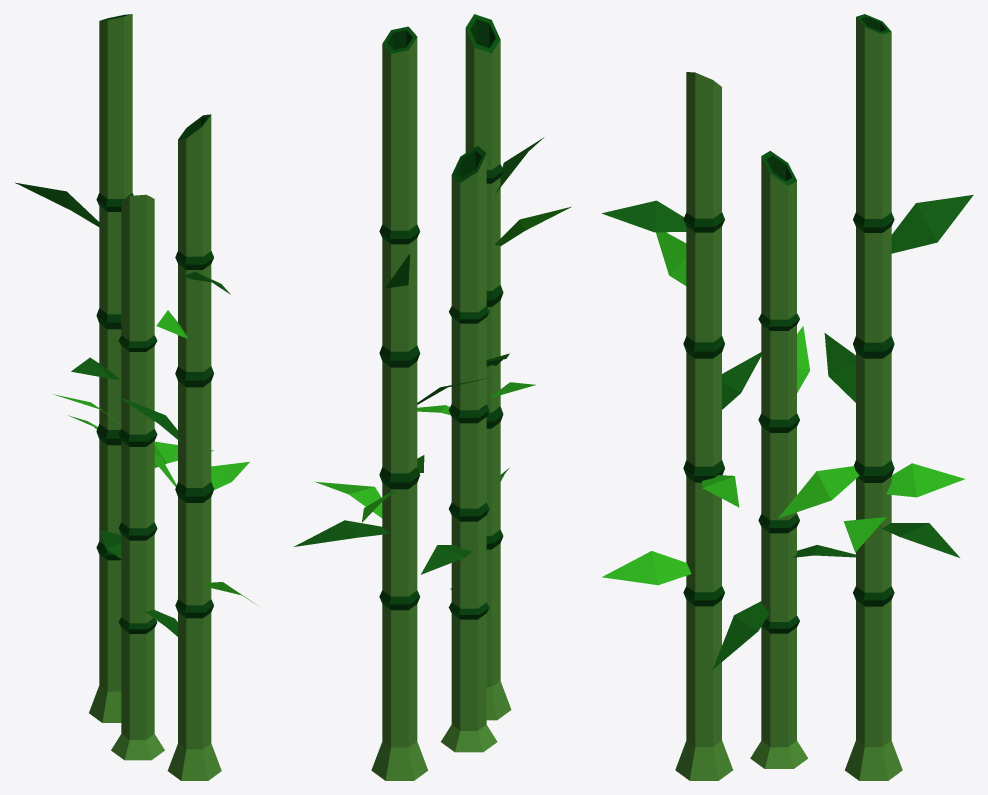
Rendered from Bamboo_tree.fbx.
3 renders of one model, left to right at view 1: azimuth 30°, elevation 25°; view 2: azimuth 150°, elevation 25°; view 3: azimuth 270°, elevation 25°, orthographic. The views are drawn at different scales.
Parts seen in each view (by area): view 1: Cylinder; view 2: Cylinder; view 3: Cylinder.
Boxes of the visible parts, x1,y1,x2,y2 form: Cylinder: [15, 14, 257, 780]; Cylinder: [294, 14, 571, 780]; Cylinder: [601, 14, 973, 780].
Bounding box in the file's own units: 180 × 643 × 288.
